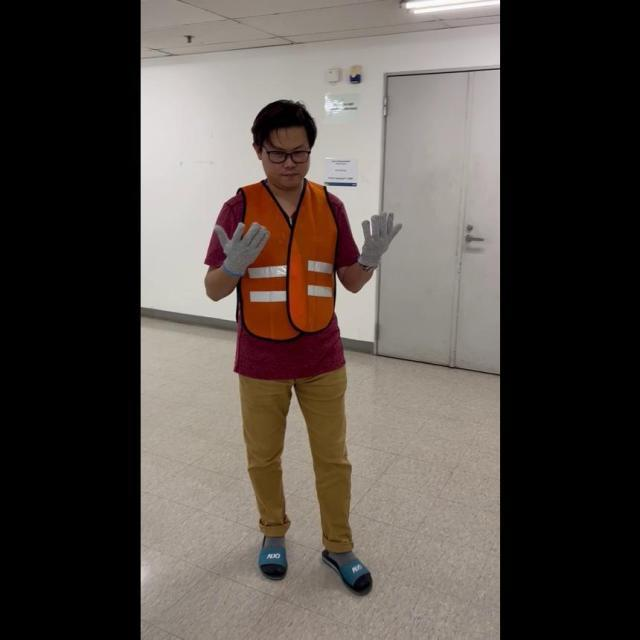gloved_hand: (214, 215, 270, 276), (352, 206, 402, 270)
